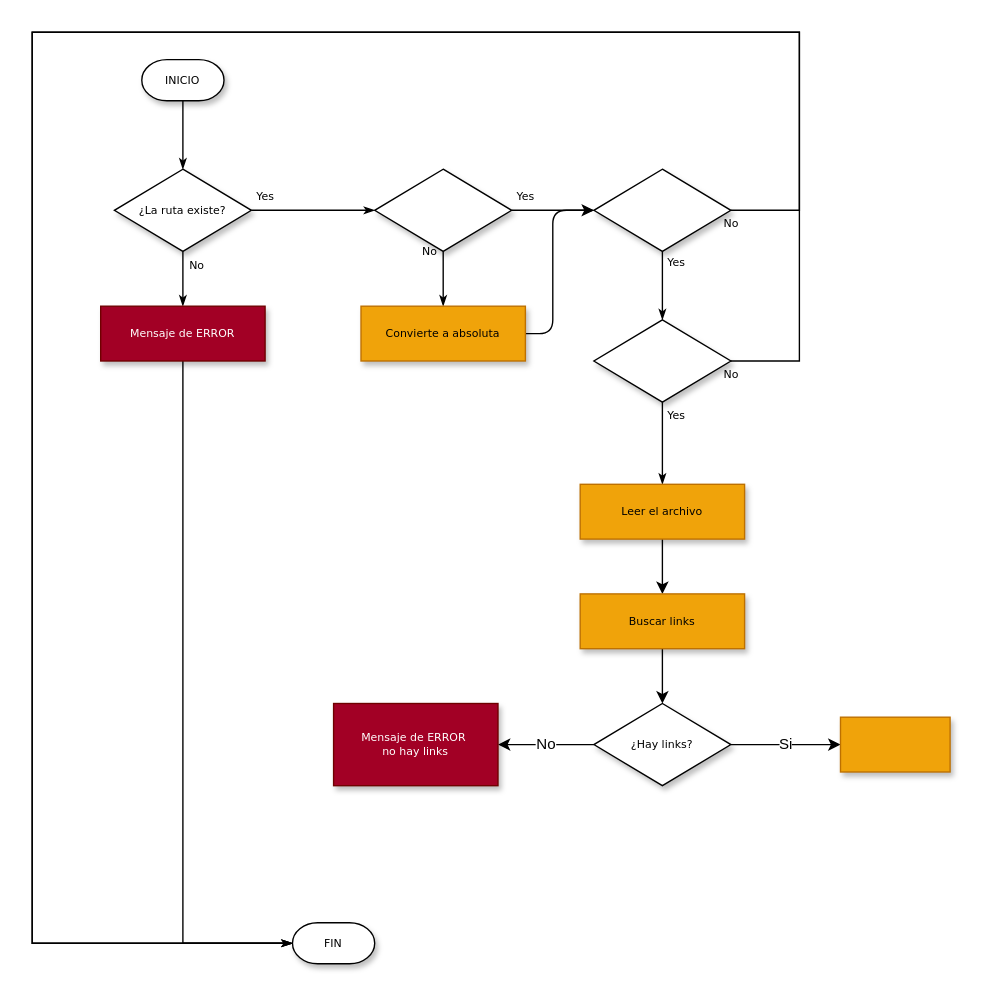
The diagram is 982 pixels wide and 997 high, and some of its shapes have lost their labels. The shapes that lost their labels are listed below. From the top down, each one's centre as x and y in pixels, then its label:
pixel 444 211: ¿La ruta es absoluta?
pixel 663 211: ¿La ruta es un archivo?
pixel 663 362: ¿Es un archivo .md?
pixel 896 746: Crear funcion para extraer links
